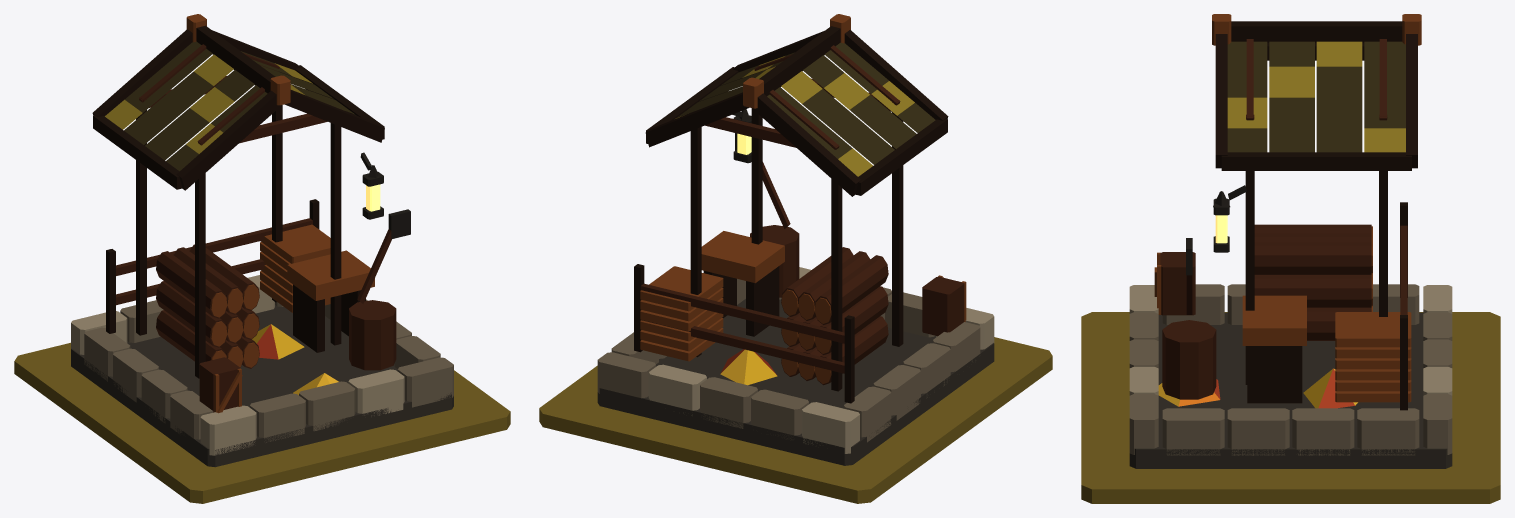
File: lumber_t6.glb
3 views of the same model, side by side, from view 1: azimuth 30°, elevation 25°; view 2: azimuth 150°, elevation 25°; view 3: azimuth 270°, elevation 25° (orthographic). The views are drawn at different scales.
Parts seen in each view (by area): view 1: MMR | lumber | T06 Architecture.001, MMR | lumber | Tier 06 Ground.001, MMR | lumber | T06 Autumn Dressing.001; view 2: MMR | lumber | T06 Architecture.001, MMR | lumber | Tier 06 Ground.001, MMR | lumber | T06 Autumn Dressing.001; view 3: MMR | lumber | T06 Architecture.001, MMR | lumber | Tier 06 Ground.001, MMR | lumber | T06 Autumn Dressing.001.
Part boxes in pixels (x1,y1,x2,y2): MMR | lumber | T06 Architecture.001: (71, 14, 453, 467); MMR | lumber | Tier 06 Ground.001: (14, 342, 510, 503); MMR | lumber | T06 Autumn Dressing.001: (252, 324, 338, 395); MMR | lumber | T06 Architecture.001: (597, 14, 994, 465); MMR | lumber | Tier 06 Ground.001: (539, 337, 1052, 503); MMR | lumber | T06 Autumn Dressing.001: (720, 349, 777, 385); MMR | lumber | T06 Architecture.001: (1129, 14, 1452, 468); MMR | lumber | Tier 06 Ground.001: (1081, 312, 1500, 503); MMR | lumber | T06 Autumn Dressing.001: (1158, 368, 1357, 408).
Bounding box in the file's own units: 1.3 × 1.34 × 1.3.
2 materials, 1 textured.
